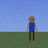person: (26, 16, 37, 40)
